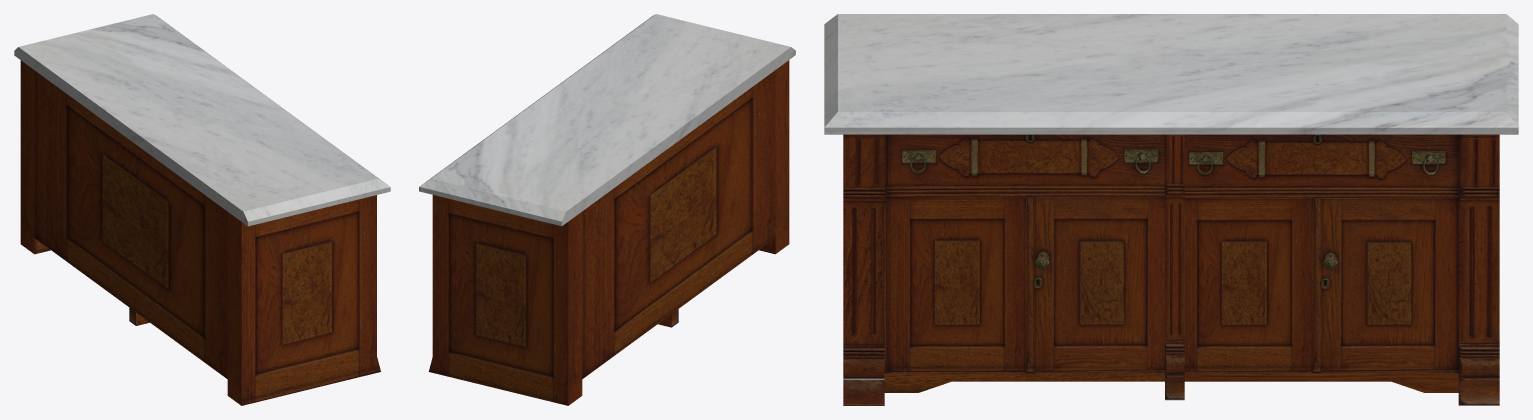
The model's file is Buffet_Marbletop.fbx.
3 views of the same model, side by side, from view 1: azimuth 30°, elevation 25°; view 2: azimuth 150°, elevation 25°; view 3: azimuth 270°, elevation 25° (orthographic). The views are drawn at different scales.
Visible parts, largest first — view 1: Cupboard1; view 2: Cupboard1; view 3: Cupboard1.
Part boxes in pixels (x1,y1,x2,y2): Cupboard1: [14, 14, 390, 405]; Cupboard1: [419, 14, 795, 405]; Cupboard1: [824, 14, 1518, 405].
Size of the model in its own units: 178 by 233 by 505.
